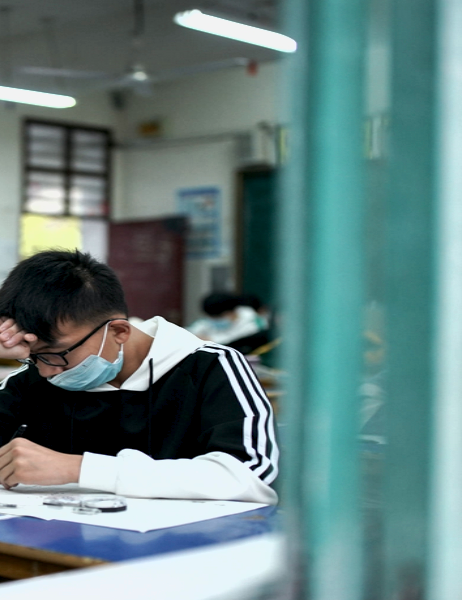mask_weared_incorrect: (6, 254, 121, 391)
